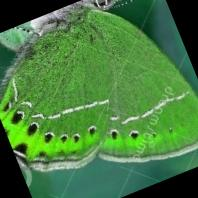butterfly: (0, 0, 198, 170)
